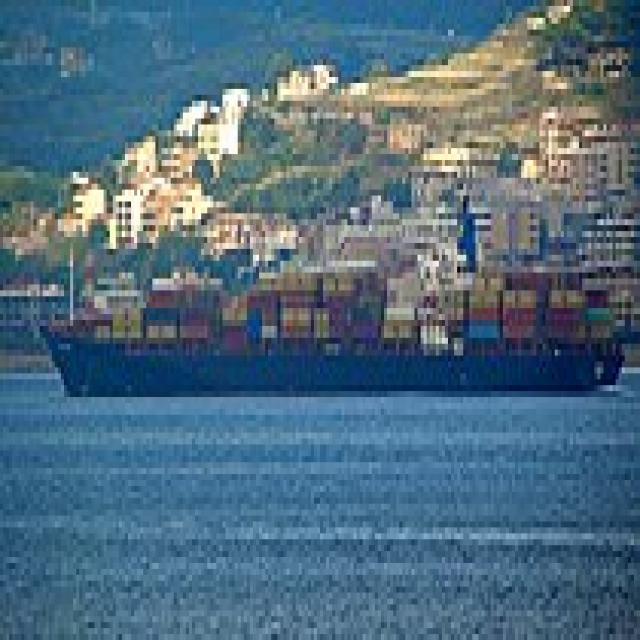Cargo: (30, 225, 628, 397)
